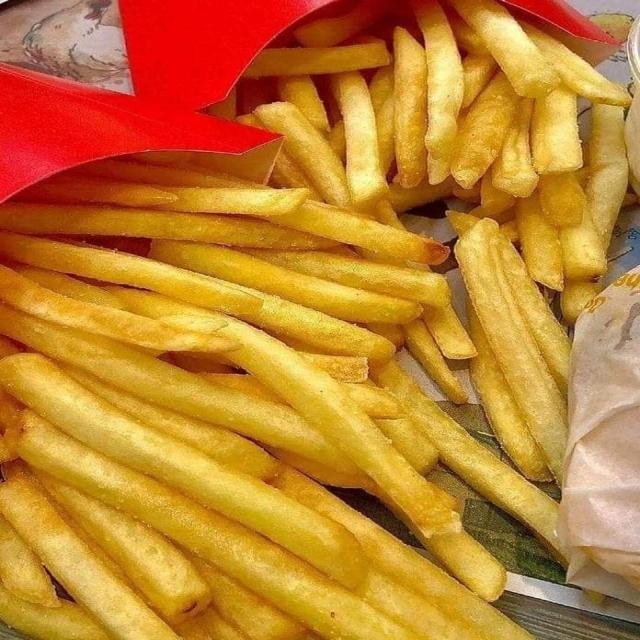potato fries: (0, 0, 637, 639), (20, 417, 415, 639), (0, 354, 364, 586), (0, 306, 356, 471), (234, 326, 458, 536), (275, 469, 530, 639), (374, 362, 561, 556), (0, 474, 177, 639), (456, 219, 567, 478), (43, 477, 210, 621), (65, 367, 276, 479), (0, 234, 261, 313), (0, 266, 237, 351), (195, 245, 420, 323), (0, 203, 338, 249), (469, 306, 549, 481), (496, 234, 571, 394), (235, 286, 393, 360), (247, 250, 450, 306), (275, 201, 448, 263), (450, 0, 559, 97), (256, 102, 352, 206), (192, 556, 303, 639), (523, 24, 630, 106), (413, 0, 464, 159), (331, 72, 388, 208), (452, 72, 518, 187), (358, 570, 453, 639), (586, 104, 628, 249), (0, 585, 112, 639), (423, 532, 506, 601), (70, 159, 259, 188), (0, 516, 60, 607), (403, 320, 468, 403), (394, 27, 427, 187), (244, 41, 389, 77), (15, 265, 124, 309), (19, 176, 178, 206), (492, 98, 538, 197), (516, 194, 563, 290), (531, 86, 582, 174), (156, 187, 309, 216), (295, 0, 384, 47), (284, 339, 368, 383), (376, 418, 437, 475), (560, 208, 607, 280), (278, 75, 329, 133), (423, 305, 476, 359), (369, 65, 395, 175), (538, 172, 586, 227), (202, 373, 283, 402), (389, 178, 455, 213), (462, 54, 497, 108), (447, 11, 489, 55), (560, 281, 602, 325), (480, 168, 515, 219), (205, 87, 238, 119), (328, 120, 346, 163)
